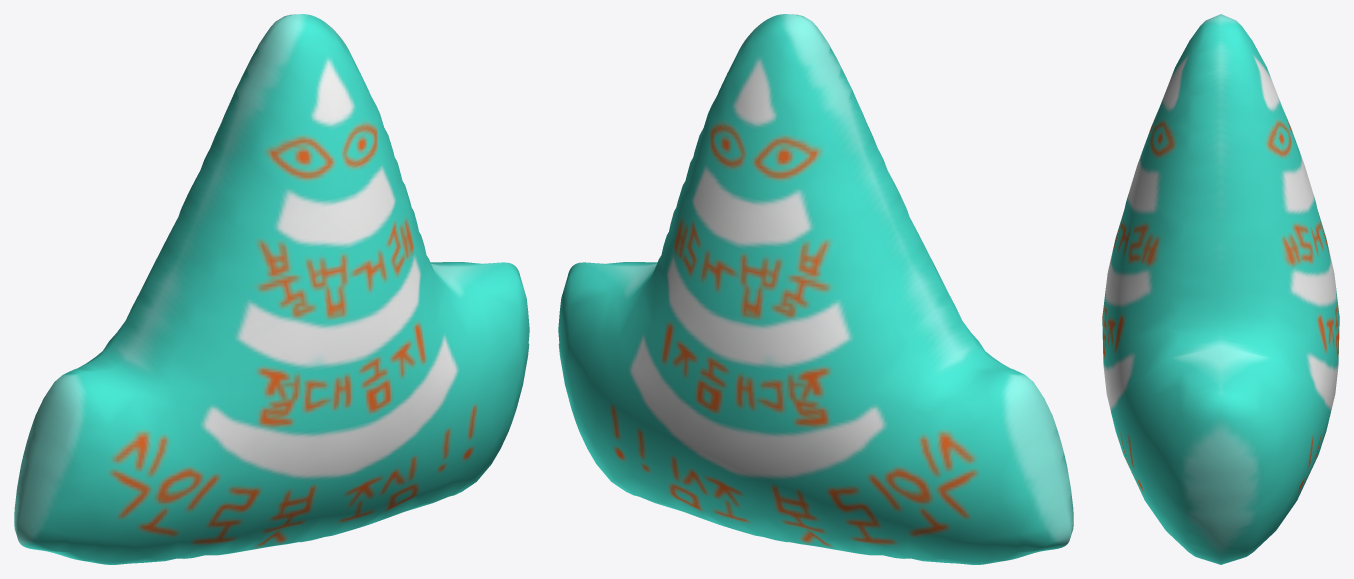
File: blueCone.glb
3 views of the same model, side by side, from view 1: azimuth 30°, elevation 25°; view 2: azimuth 150°, elevation 25°; view 3: azimuth 270°, elevation 25° (orthographic). The views are drawn at different scales.
Visible parts, largest first — view 1: Mesh_0; view 2: Mesh_0; view 3: Mesh_0.
Part boxes in pixels (x1,y1,x2,y2): Mesh_0: [14, 14, 529, 564]; Mesh_0: [558, 14, 1073, 564]; Mesh_0: [1102, 14, 1339, 564].
Bounding box in the file's own units: 103 × 101 × 45.05.
1 material, 1 textured.
